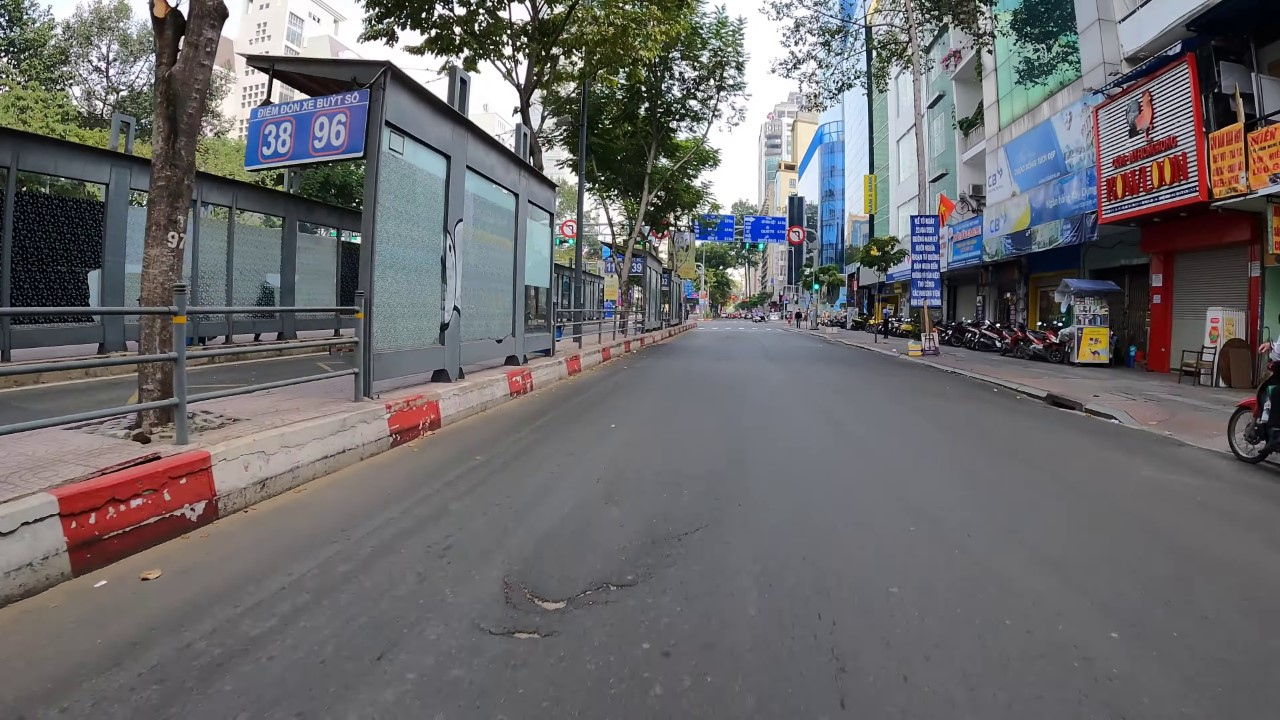cam_re_trai: (785, 223, 808, 248), (560, 219, 580, 240)
